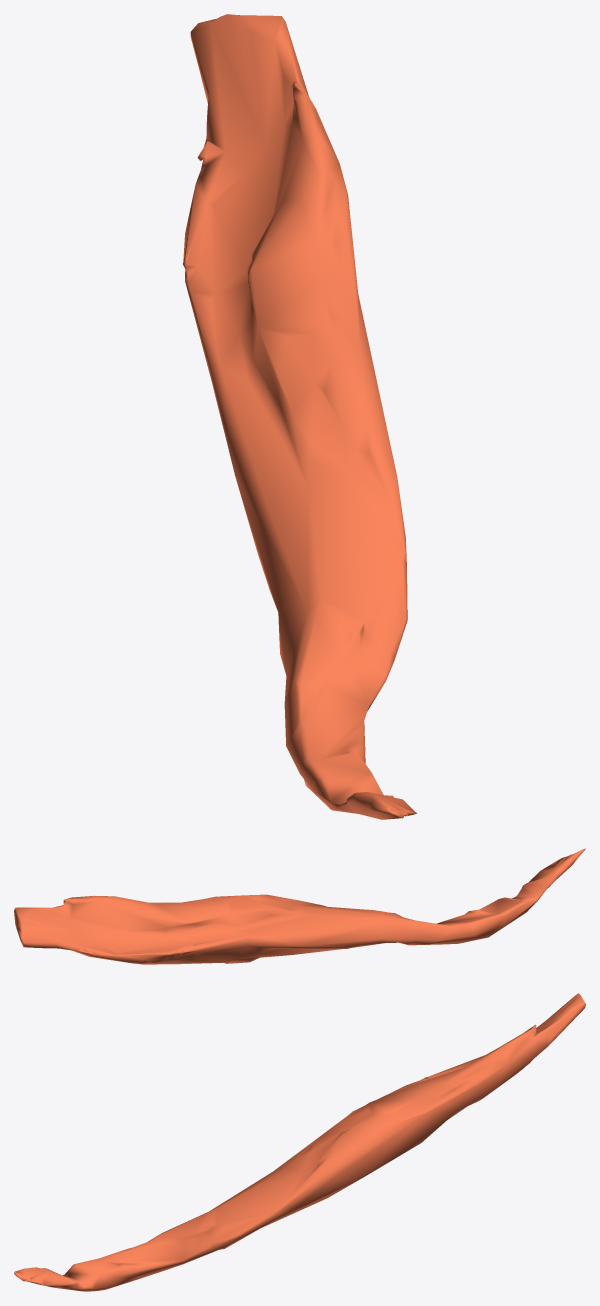
File: Flexor_digiti_minimi_foot_right.glb
3 renders of one model, top to bottom at view 1: azimuth 30°, elevation 25°; view 2: azimuth 150°, elevation 25°; view 3: azimuth 330°, elevation 25°, orthographic. The views are drawn at different scales.
Visible parts, largest first — view 1: Flexor_digiti_minimi_of_foot.r_Generated_Mesh_From_X3D.668; view 2: Flexor_digiti_minimi_of_foot.r_Generated_Mesh_From_X3D.668; view 3: Flexor_digiti_minimi_of_foot.r_Generated_Mesh_From_X3D.668.
Boxes of the visible parts, x1,y1,x2,y2 form: Flexor_digiti_minimi_of_foot.r_Generated_Mesh_From_X3D.668: (183, 14, 416, 819); Flexor_digiti_minimi_of_foot.r_Generated_Mesh_From_X3D.668: (14, 848, 585, 964); Flexor_digiti_minimi_of_foot.r_Generated_Mesh_From_X3D.668: (14, 993, 585, 1291).
Bounding box in the file's own units: 0.033 × 0.0184 × 0.0729.
